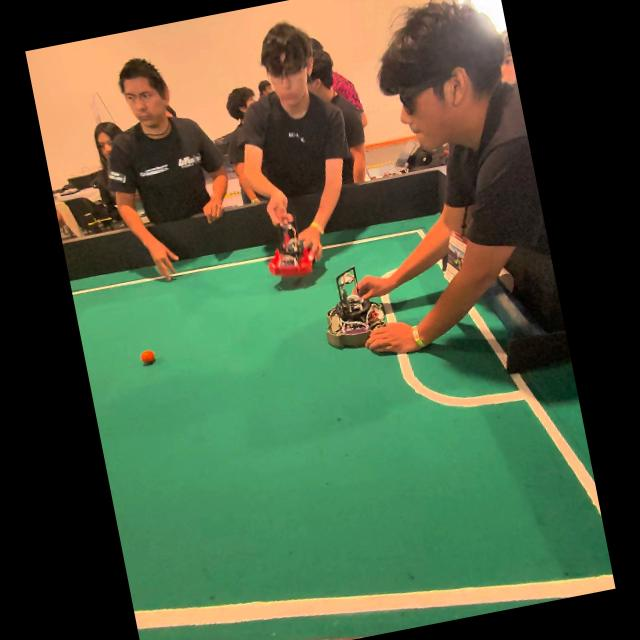ball: (140, 351, 154, 364)
robot: (326, 266, 384, 347), (268, 221, 314, 278)
